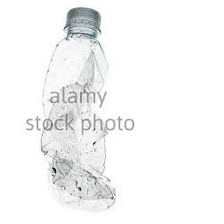bottle: (37, 3, 131, 212)
